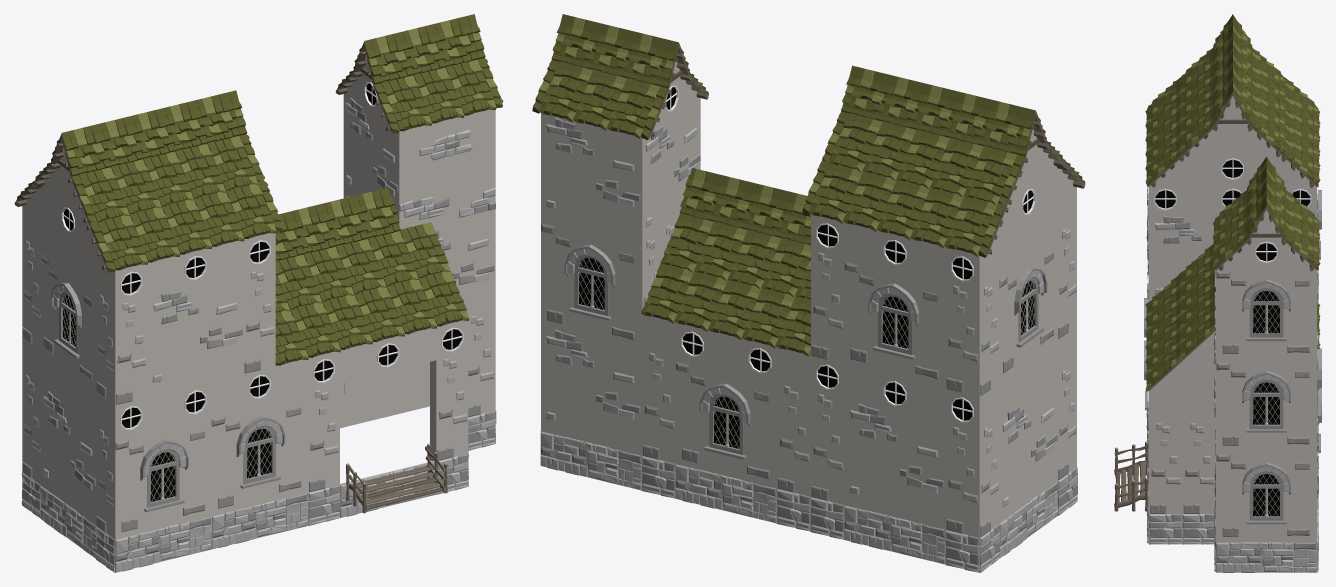
The model's file is HOUSE_19_PARTS.fbx.
The picture shows the model from 3 angles, left to right: view 1: azimuth 30°, elevation 25°; view 2: azimuth 150°, elevation 25°; view 3: azimuth 270°, elevation 25°; orthographic projection. The views are drawn at different scales.
Parts seen in each view (by area): view 1: WINDOW_03_31, WINDOW_03_30, WALL_01_4, WALL_03_2, WINDOW_03_32, WALL_01_3, WALL_01_8, WALL_01_2, WALL_06_3, WALL_06_11, WALL_06_12, WALL_06_4 (+81 smaller); view 2: WALL_01_6, WALL_01_5, WINDOW_03_33, WALL_01_7, WINDOW_03_34, WINDOW_03_36, WALL_01_3, WINDOW_03_32, WALL_01_8, FOUNDATION_03_6, FOUNDATION_03_8, FOUNDATION_03_7 (+78 smaller); view 3: WINDOW_03_35, WINDOW_03_29, WINDOW_03_37, WALL_01_9, WALL_06_6, FOUNDATION_03_5, WALL_06_16, STAIRS_01_3, FOUNDATION_02_7, ROOF_TRIAGLE_QUAD_29, ROOF_TRIANGLE_QUAD_WINDOW_24, ROOF_TRIANGLE_QUAD_WINDOW_22 (+82 smaller).
Boxes of the visible parts, x1,y1,x2,y2 form: WINDOW_03_31: [115, 415, 211, 539]; WINDOW_03_30: [211, 391, 307, 515]; WALL_01_4: [147, 273, 243, 396]; WALL_03_2: [399, 109, 495, 229]; WINDOW_03_32: [40, 250, 96, 390]; WALL_01_3: [41, 384, 96, 524]; WALL_01_8: [343, 93, 399, 225]; WALL_01_2: [432, 209, 495, 315]; WALL_06_3: [435, 352, 468, 460]; WALL_06_11: [243, 265, 275, 373]; WALL_06_12: [115, 296, 147, 404]; WALL_06_4: [307, 384, 339, 492]; WALL_01_6: [541, 325, 642, 455]; WALL_01_5: [844, 399, 945, 529]; WINDOW_03_33: [844, 257, 945, 387]; WALL_01_7: [541, 113, 643, 243]; WINDOW_03_34: [676, 357, 776, 487]; WINDOW_03_36: [541, 219, 642, 348]; WALL_01_3: [999, 375, 1057, 522]; WINDOW_03_32: [999, 233, 1057, 381]; WALL_01_8: [642, 97, 700, 242]; FOUNDATION_03_6: [540, 430, 642, 490]; FOUNDATION_03_8: [844, 505, 945, 564]; FOUNDATION_03_7: [675, 463, 776, 523]; WINDOW_03_35: [1216, 359, 1316, 450]; WINDOW_03_29: [1216, 450, 1316, 541]; WINDOW_03_37: [1216, 267, 1316, 358]; WALL_01_9: [1148, 214, 1218, 300]; WALL_06_6: [1148, 422, 1182, 513]; FOUNDATION_03_5: [1216, 542, 1316, 572]; WALL_06_16: [1182, 422, 1215, 513]; STAIRS_01_3: [1114, 441, 1148, 511]; FOUNDATION_02_7: [1148, 513, 1182, 544]; ROOF_TRIAGLE_QUAD_29: [1182, 184, 1215, 214]; ROOF_TRIANGLE_QUAD_WINDOW_24: [1249, 237, 1283, 267]; ROOF_TRIANGLE_QUAD_WINDOW_22: [1216, 153, 1249, 183].
Bounding box in the file's own units: 1363 × 1214 × 618.
